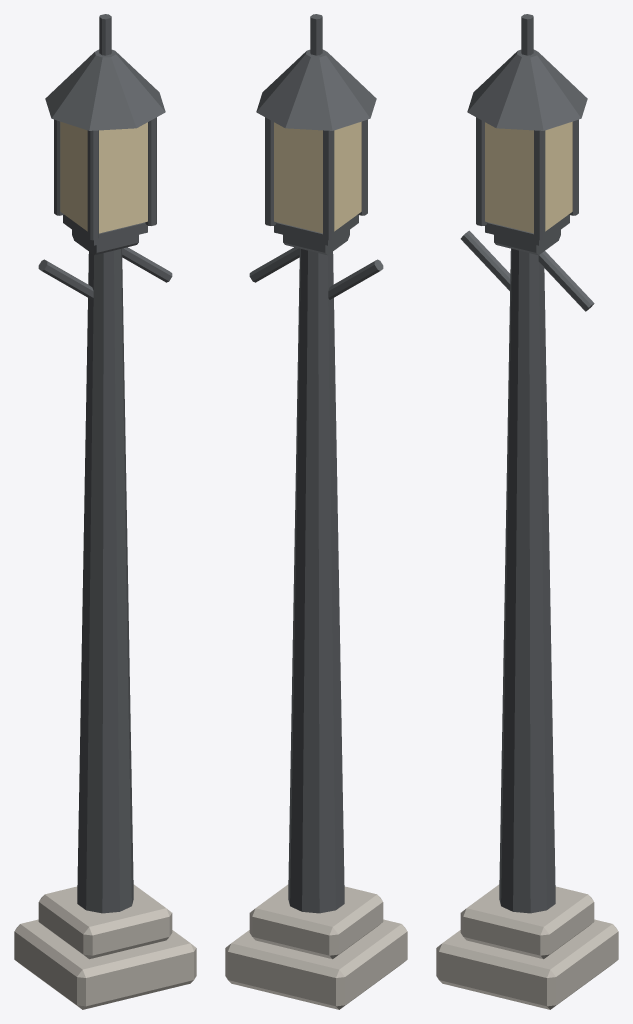
File: lamp_post.glb
3 renders of one model, left to right at view 1: azimuth 30°, elevation 25°; view 2: azimuth 150°, elevation 25°; view 3: azimuth 330°, elevation 25°, orthographic.
Visible parts, largest first — view 1: lamp_post; view 2: lamp_post; view 3: lamp_post.
Part boxes in pixels (bbox=[...]): lamp_post: bbox=[14, 14, 196, 1009]; lamp_post: bbox=[225, 14, 407, 1009]; lamp_post: bbox=[436, 14, 618, 1009].
Bounding box in the file's own units: 0.6787 × 4.74 × 0.62.
